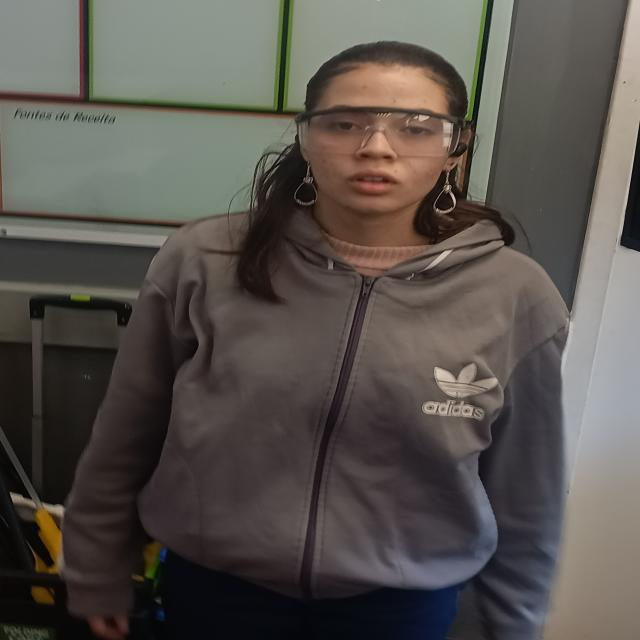oculos-epi: (295, 107, 461, 157)
